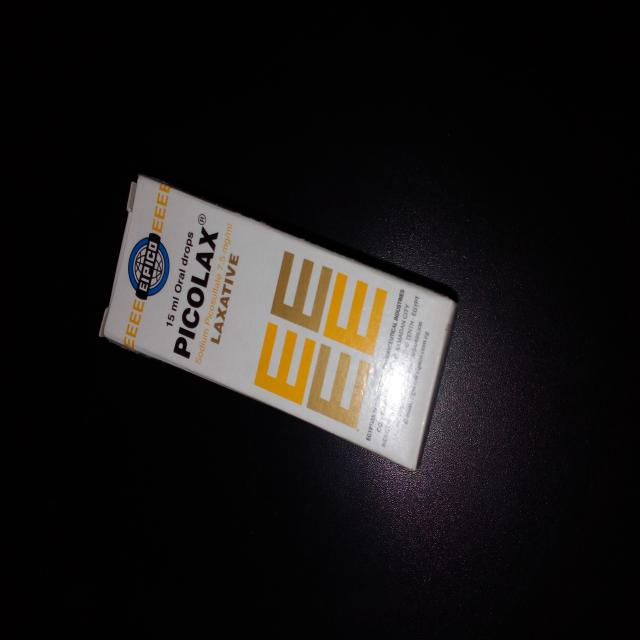Medicine: (94, 171, 460, 478)
